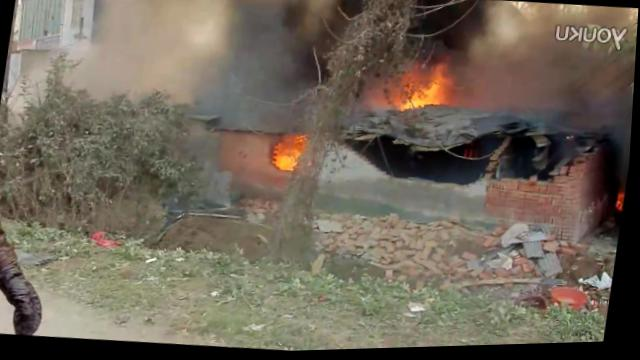fire: (273, 134, 308, 176), (426, 65, 455, 111), (401, 93, 427, 113)
